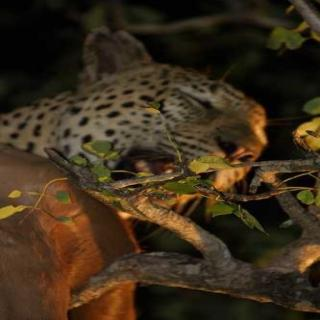Leopard: (0, 55, 288, 198)
